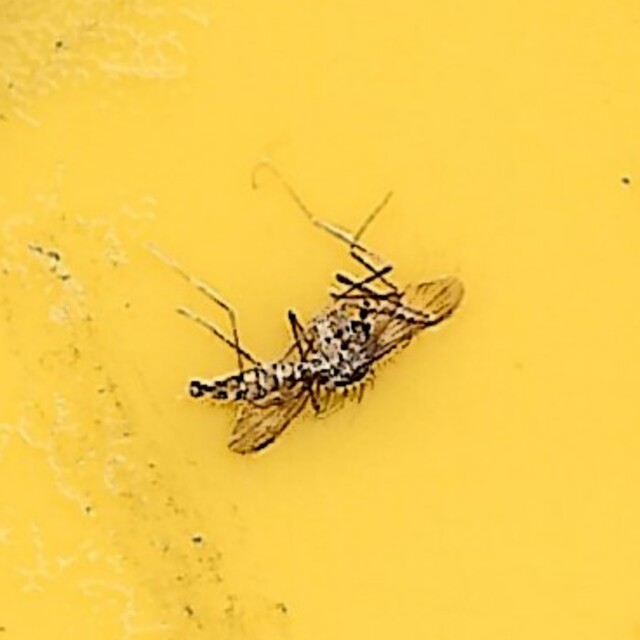Nematocera: (174, 173, 466, 467)
